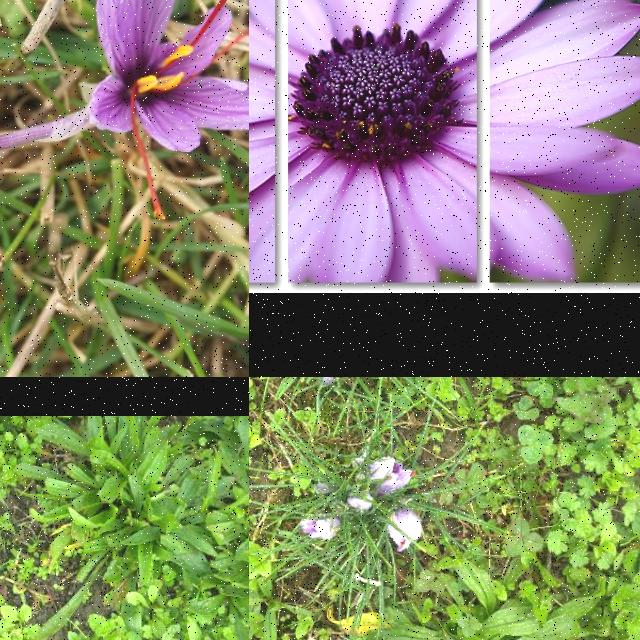flower: (88, 0, 249, 221), (388, 506, 422, 554), (346, 494, 376, 512)
overlap: (354, 458, 418, 494), (300, 518, 340, 542)
